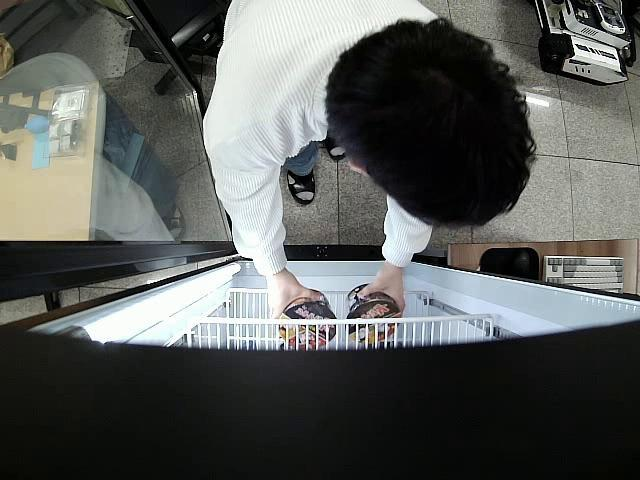07_buldak_L: (277, 288, 340, 349), (346, 283, 400, 348)
